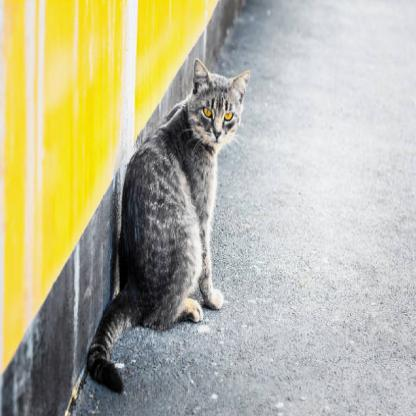cat: (122, 66, 250, 326)
